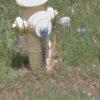Hydrant: (7, 1, 70, 74)
